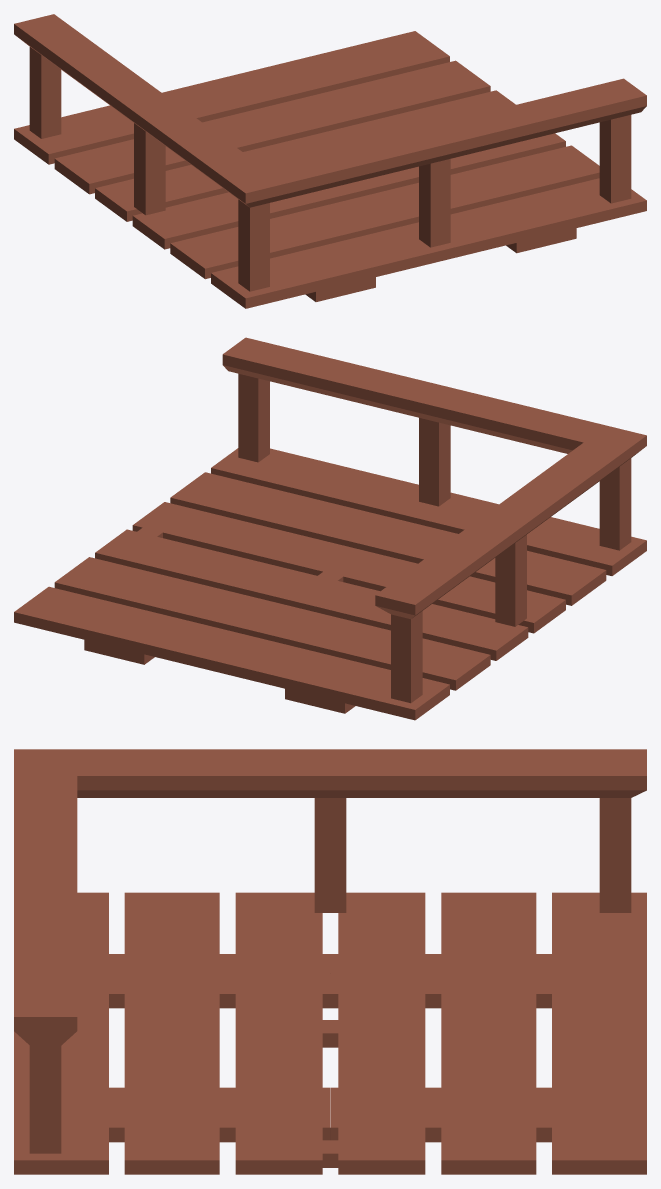
The model's file is scaffold_low_cornerRight 1.fbx.
3 renders of one model, top to bottom at view 1: azimuth 30°, elevation 25°; view 2: azimuth 150°, elevation 25°; view 3: azimuth 270°, elevation 25°, orthographic. The views are drawn at different scales.
Visible parts, largest first — view 1: scaffold_low_cornerRight; view 2: scaffold_low_cornerRight; view 3: scaffold_low_cornerRight.
Boxes of the visible parts, x1=… form: scaffold_low_cornerRight: x1=14, y1=14, x2=646, y2=308; scaffold_low_cornerRight: x1=14, y1=337, x2=646, y2=720; scaffold_low_cornerRight: x1=14, y1=749, x2=646, y2=1174.
Bounding box in the file's own units: 400 × 120 × 400.
